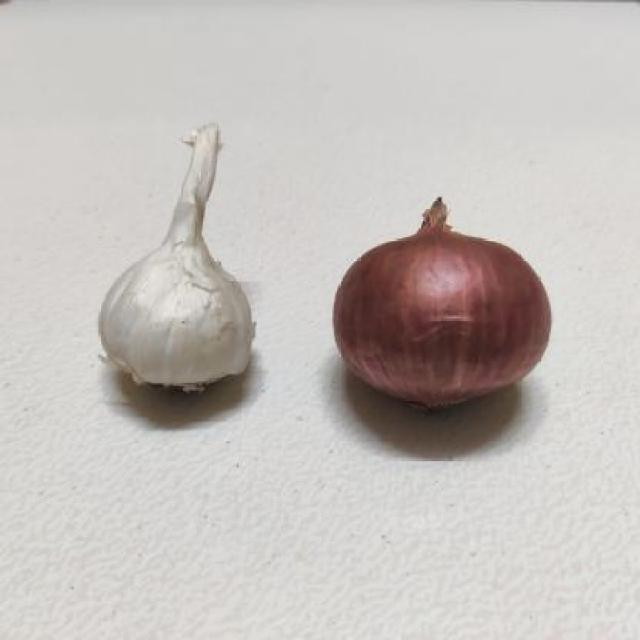Garlic: (86, 109, 266, 414)
Onion: (320, 194, 568, 431)
